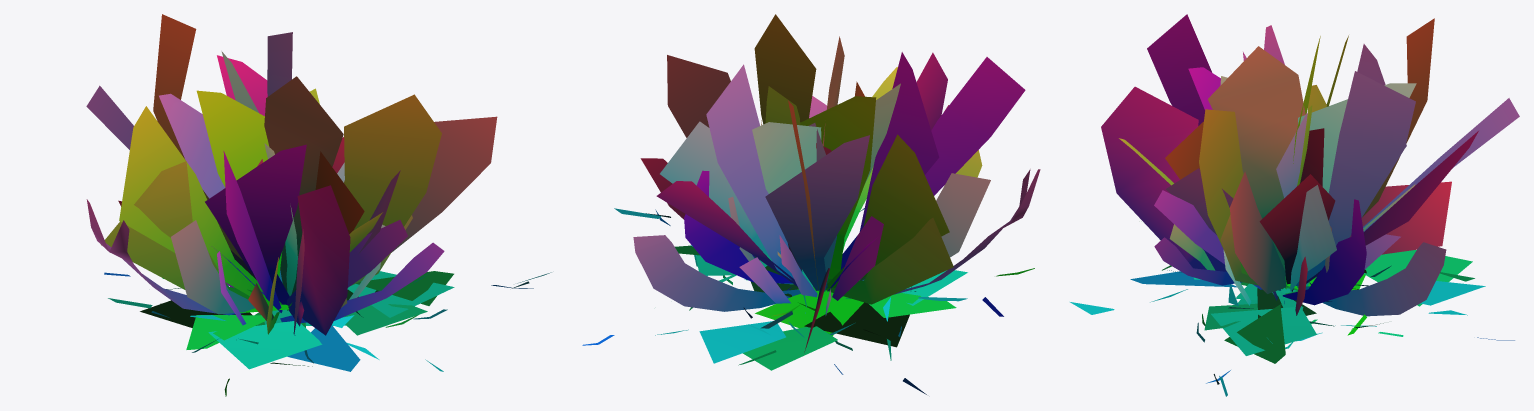
The model's file is Dead_Shrubs_vdknafgha_Low_vdknafgha_VarC_LOD2.fbx.
3 views of the same model, side by side, from view 1: azimuth 30°, elevation 25°; view 2: azimuth 150°, elevation 25°; view 3: azimuth 270°, elevation 25° (orthographic). The views are drawn at different scales.
Visible parts, largest first — view 1: _mwqn_VarC_LOD3; view 2: _mwqn_VarC_LOD3; view 3: _mwqn_VarC_LOD3.
Boxes of the visible parts, x1,y1,x2,y2 form: _mwqn_VarC_LOD3: (86,14,551,396); _mwqn_VarC_LOD3: (582,14,1040,394); _mwqn_VarC_LOD3: (1070,14,1519,396).
Size of the model in its own units: 83.67 by 46.54 by 75.32.
